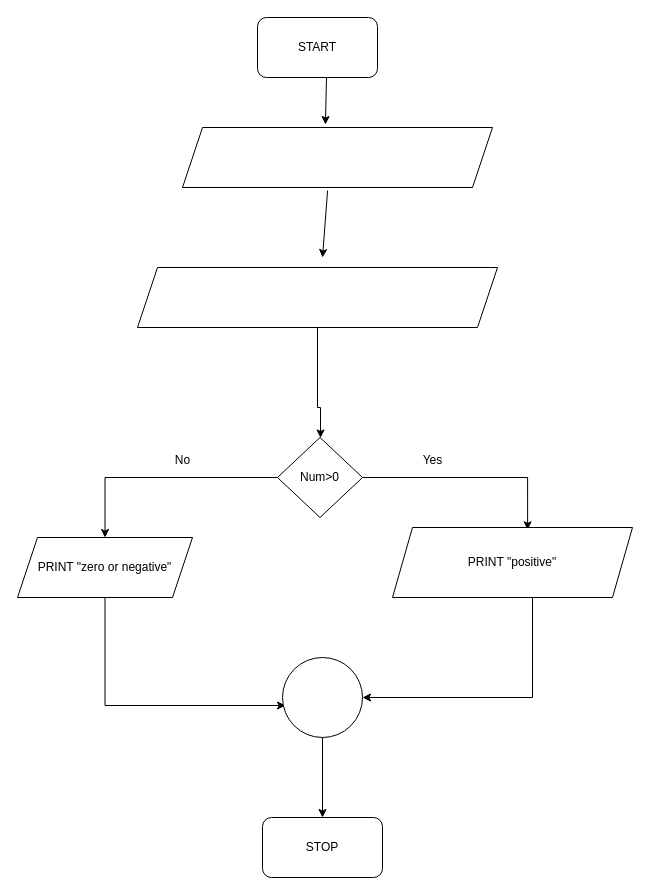
Some shapes in this 650 by 895 pixel diagram are drawn without their labels. Each missing label, with the centre of its shape:
PRINT "Enter a Number": the point at 337,157
READ Num: the point at 317,297
